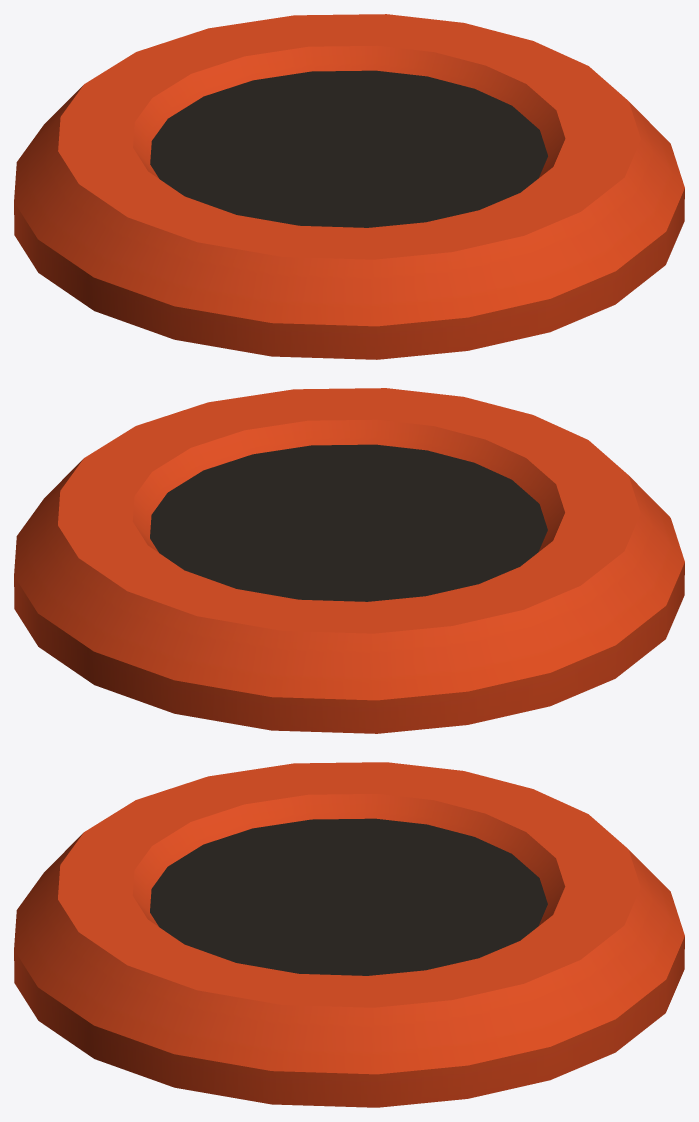
The model's file is Charging_Station_05_Cap.fbx.
3 renders of one model, top to bottom at view 1: azimuth 30°, elevation 25°; view 2: azimuth 150°, elevation 25°; view 3: azimuth 270°, elevation 25°, orthographic.
Visible parts, largest first — view 1: Scharging_Station_05_Cap; view 2: Scharging_Station_05_Cap; view 3: Scharging_Station_05_Cap.
Boxes of the visible parts, x1=… form: Scharging_Station_05_Cap: x1=14, y1=14, x2=684, y2=359; Scharging_Station_05_Cap: x1=14, y1=388, x2=684, y2=733; Scharging_Station_05_Cap: x1=14, y1=762, x2=684, y2=1107.
Size of the model in its own units: 17.65 by 2.38 by 17.7.
